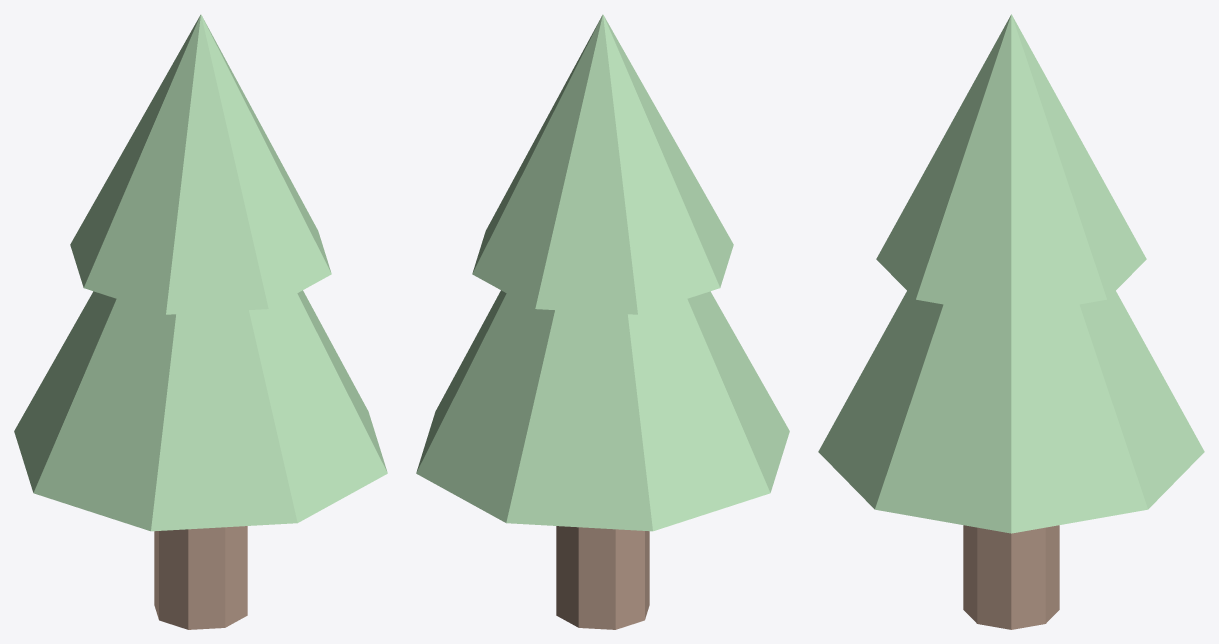
Rendered from tree.glb.
3 views of the same model, side by side, from view 1: azimuth 30°, elevation 25°; view 2: azimuth 150°, elevation 25°; view 3: azimuth 270°, elevation 25° (orthographic).
Visible parts, largest first — view 1: Tree_Leaves, Tree_Leaves2, Tree_Trunk; view 2: Tree_Leaves, Tree_Leaves2, Tree_Trunk; view 3: Tree_Leaves, Tree_Leaves2, Tree_Trunk.
Part boxes in pixels (x1,y1,x2,y2): Tree_Leaves: (14,290,387,531); Tree_Leaves2: (70,14,331,314); Tree_Trunk: (154,526,247,629); Tree_Leaves: (416,290,789,531); Tree_Leaves2: (472,14,733,314); Tree_Trunk: (556,526,649,629); Tree_Leaves: (818,291,1204,533); Tree_Leaves2: (876,14,1146,316); Tree_Trunk: (963,525,1059,629).
Size of the model in its own units: 2 by 3.4 by 2.
